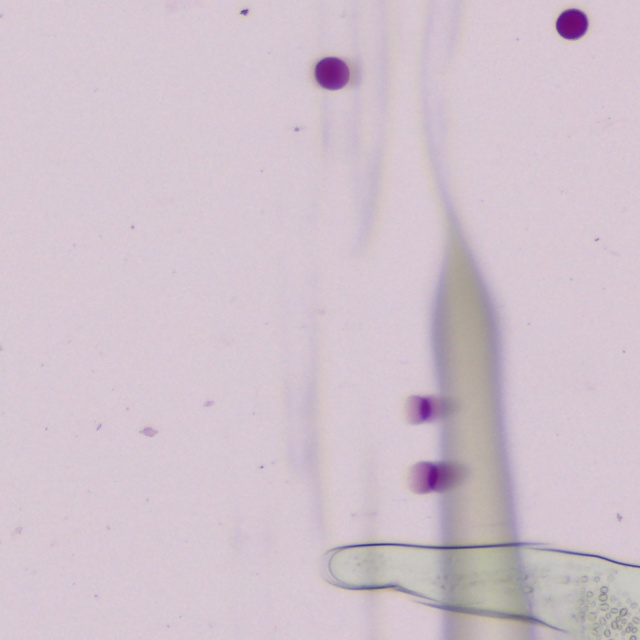viable: (409, 462, 452, 492), (316, 58, 349, 89), (557, 9, 587, 39)
